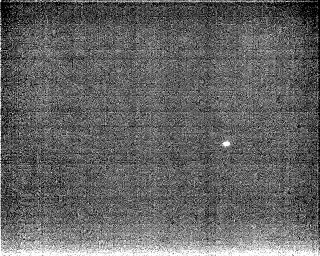AIRPLANE: (220, 138, 233, 150)
